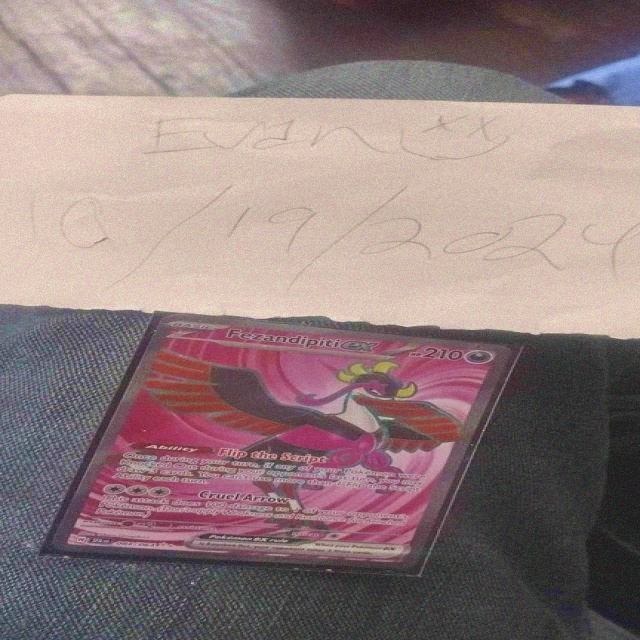card: (48, 313, 516, 570)
